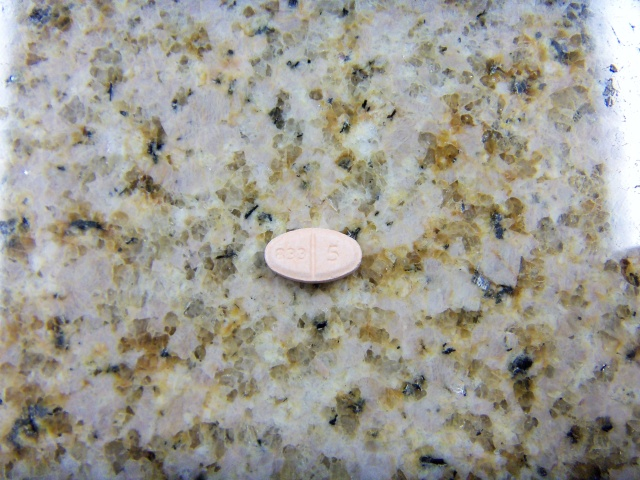3: (296, 244, 308, 263), (286, 245, 297, 263)
5: (325, 241, 342, 264)
8: (275, 245, 285, 263)
|: (306, 228, 321, 281)
